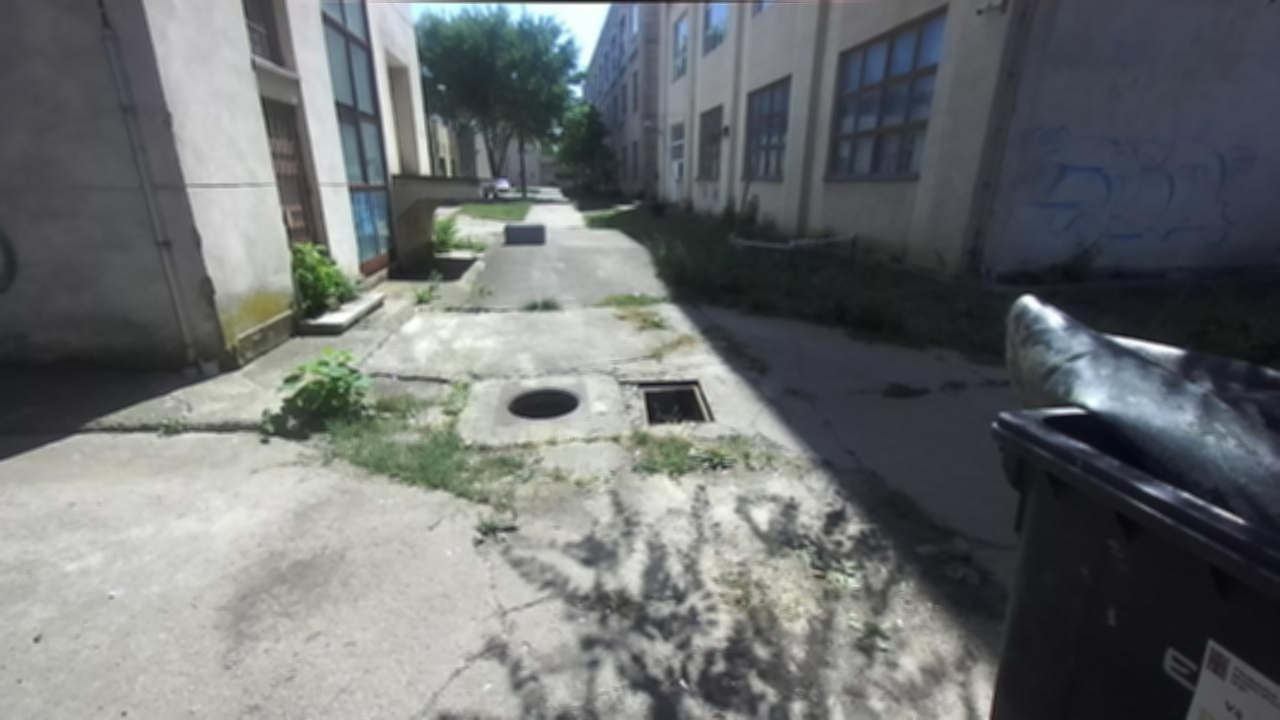drain: (635, 375, 719, 429), (504, 385, 588, 419)
